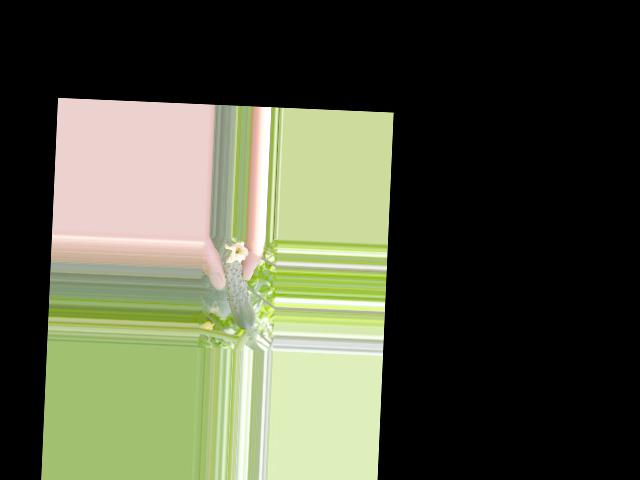cucumber: (220, 242, 258, 331)
